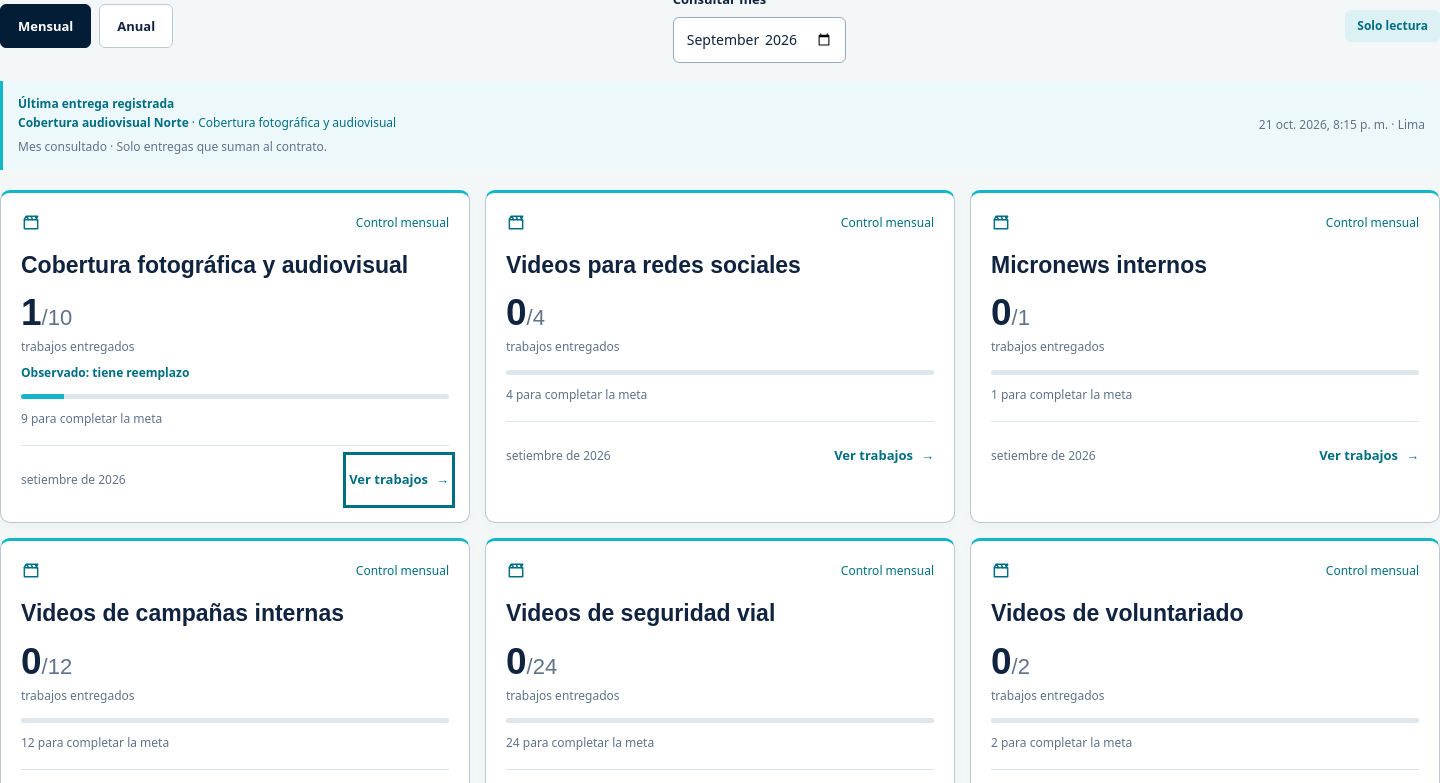
contrato común con permisos de cliente › opens inline detail, separates pending and excluded, keeps replacements and restores focus
What coordinates should you click on to do the following:
click the button with aria-label "Cobertura fotográfica y audiovisual:"
I would click on:
 (399, 480)
Its box is [349, 458, 449, 502].
(page scrolled)
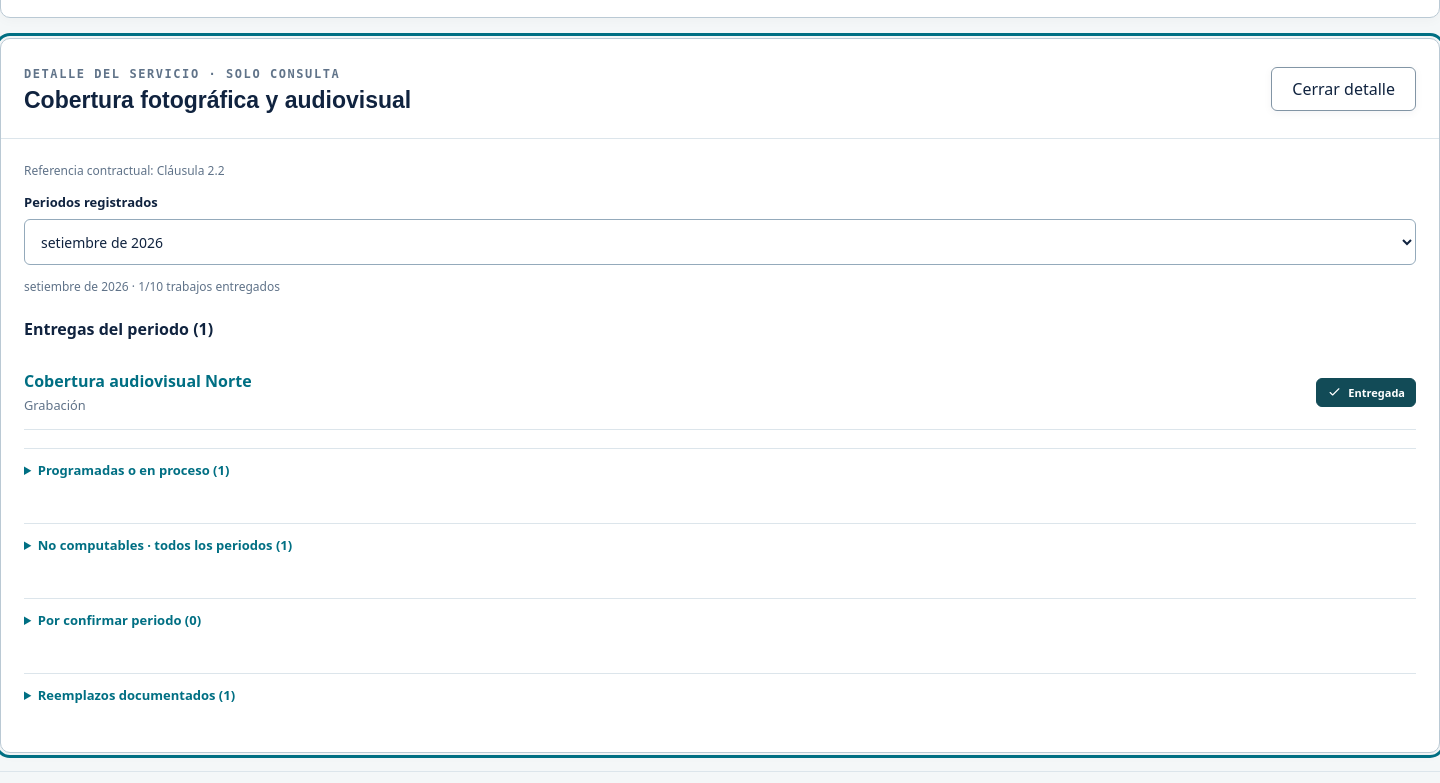
expect the heading "Entregas del periodo (1)" is shown: met, box [24, 318, 213, 340]
expect the heading "Programadas o en proceso (1)" is shown: met, box [38, 461, 229, 479]
expect the heading "No computables · todos los periodos (1)" is shown: met, box [38, 536, 292, 554]
What coordinates should you click on to do the following:
click the button "Cerrar detalle"
I would click on:
 (1344, 89)
Its box is [1271, 67, 1416, 111].
(page scrolled)
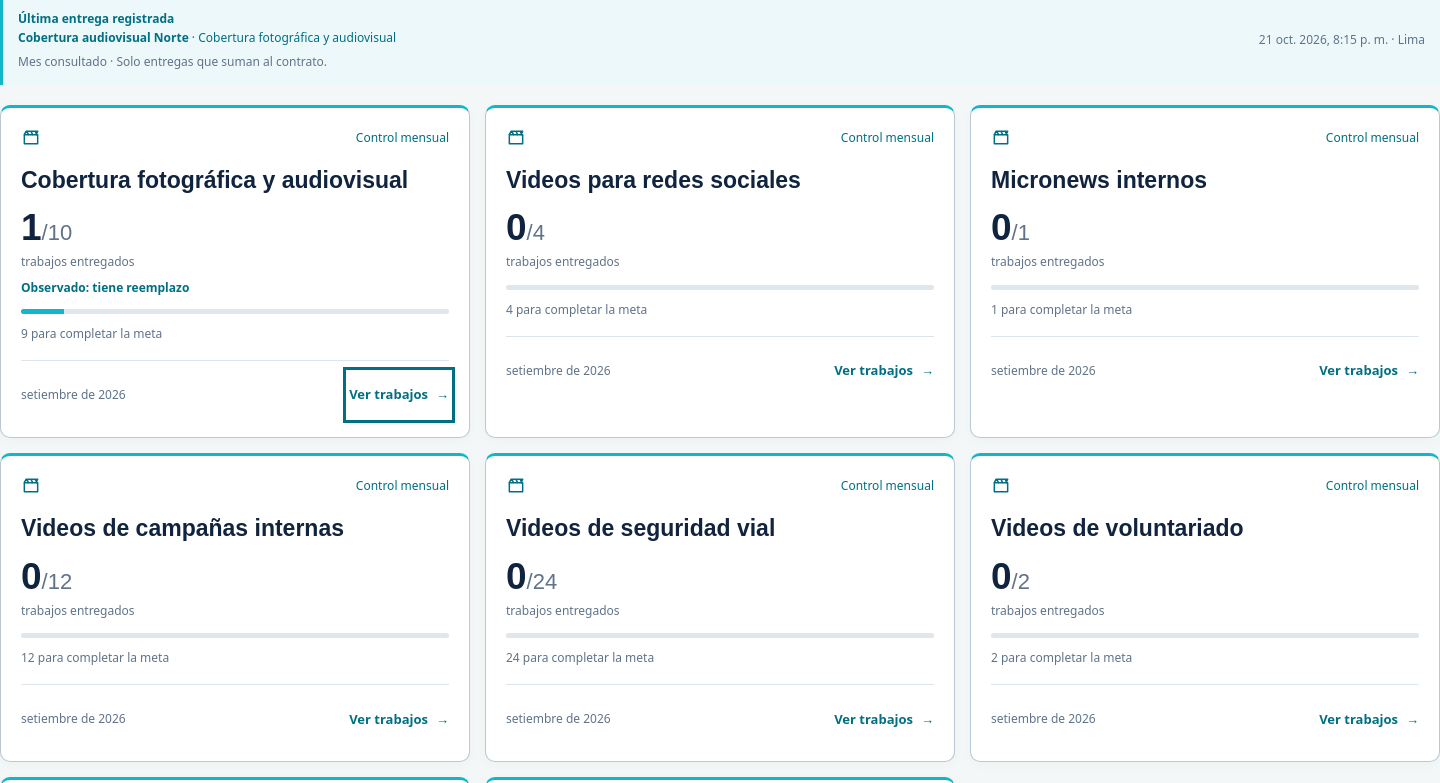
expect the text "Detalle del servicio" is gone: met
